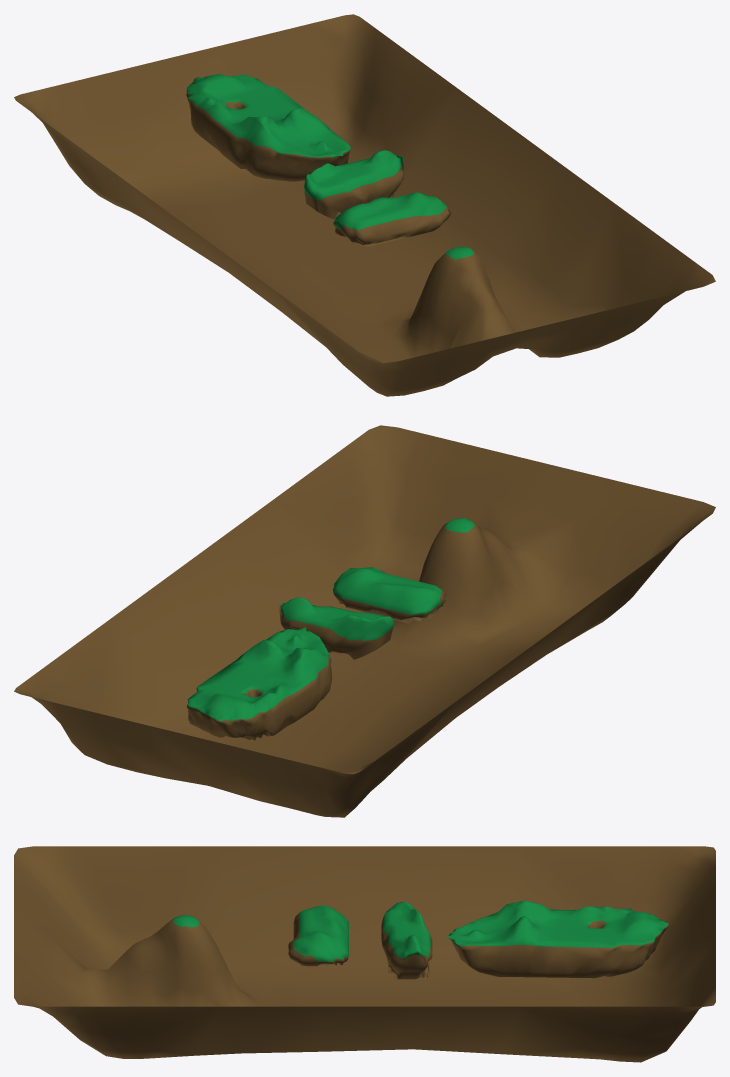
File: hole006threeisland.fbx
3 views of the same model, one above another, from view 1: azimuth 30°, elevation 25°; view 2: azimuth 150°, elevation 25°; view 3: azimuth 270°, elevation 25° (orthographic). The views are drawn at different scales.
Visible parts, largest first — view 1: nurbsToPoly1, nurbsToPoly4, nurbsToPoly3, nurbsToPoly2; view 2: nurbsToPoly1, nurbsToPoly4, nurbsToPoly2, nurbsToPoly3; view 3: nurbsToPoly1, nurbsToPoly4, nurbsToPoly3, nurbsToPoly2.
Boxes of the visible parts, x1,y1,x2,y2 form: nurbsToPoly1: (14,14,715,396); nurbsToPoly4: (186,74,351,181); nurbsToPoly3: (304,150,403,219); nurbsToPoly2: (333,192,450,246); nurbsToPoly1: (14,425,715,817); nurbsToPoly4: (187,627,332,740); nurbsToPoly2: (333,567,446,624); nurbsToPoly3: (279,597,394,659); nurbsToPoly1: (14,846,715,1062); nurbsToPoly4: (446,900,668,978); nurbsToPoly3: (381,902,432,979); nurbsToPoly2: (288,905,351,966).
Bounding box in the file's own units: 438 × 128 × 811.
